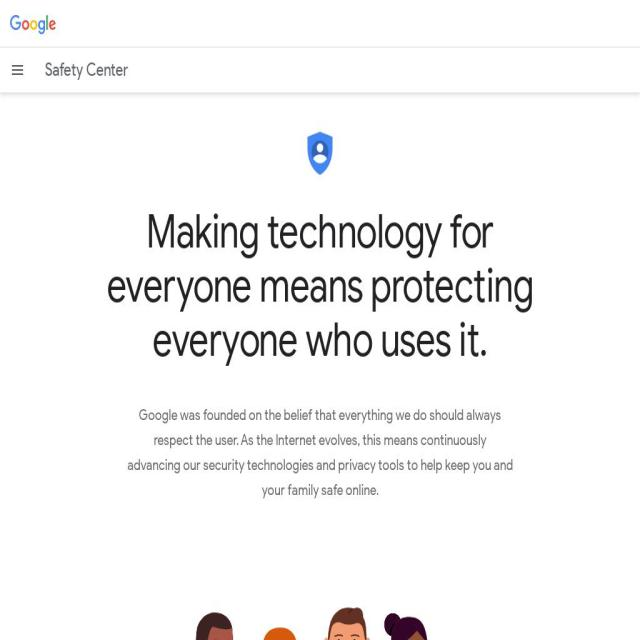button: (4, 52, 31, 88)
heading: (106, 203, 534, 369), (380, 311, 488, 369)
image: (140, 569, 500, 640), (308, 132, 332, 175), (10, 15, 56, 35), (10, 60, 25, 80)
text: (127, 406, 513, 499), (45, 58, 128, 81), (321, 481, 378, 499)
